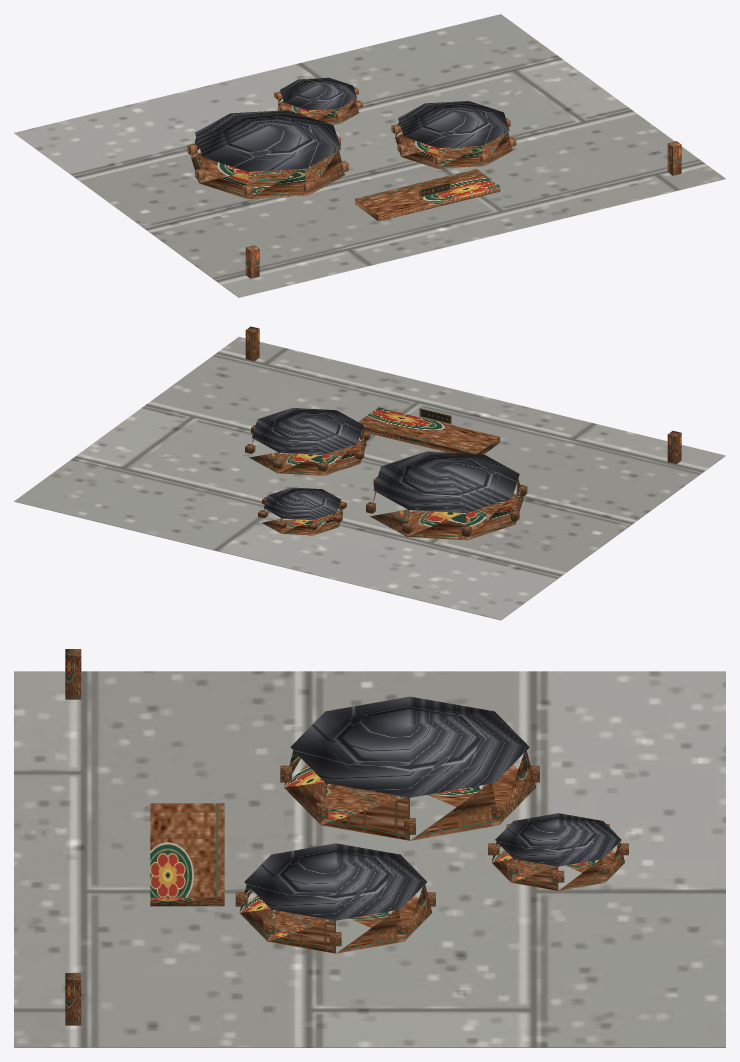
The picture shows the model from 3 angles, top to bottom: view 1: azimuth 30°, elevation 25°; view 2: azimuth 150°, elevation 25°; view 3: azimuth 270°, elevation 25°; orthographic projection. The views are drawn at different scales.
Parts seen in each view (by area): view 1: 11710_01_05546_019_01_L2__base, 11710_01_05546_019_03_L2__roof, 11710_01_05546_019_02_L2__body, 11710_01_05546_019_06_L2__green; view 2: 11710_01_05546_019_01_L2__base, 11710_01_05546_019_03_L2__roof, 11710_01_05546_019_02_L2__body, 11710_01_05546_019_06_L2__green; view 3: 11710_01_05546_019_01_L2__base, 11710_01_05546_019_03_L2__roof, 11710_01_05546_019_02_L2__body, 11710_01_05546_019_06_L2__green.
Boxes of the visible parts, left/top/right/bottom form: 11710_01_05546_019_01_L2__base: left=14, top=14, right=725, bottom=297; 11710_01_05546_019_03_L2__roof: left=195, top=77, right=509, bottom=171; 11710_01_05546_019_02_L2__body: left=187, top=87, right=516, bottom=221; 11710_01_05546_019_06_L2__green: left=245, top=141, right=681, bottom=278; 11710_01_05546_019_01_L2__base: left=14, top=337, right=725, bottom=620; 11710_01_05546_019_03_L2__roof: left=252, top=408, right=519, bottom=520; 11710_01_05546_019_02_L2__body: left=245, top=407, right=527, bottom=540; 11710_01_05546_019_06_L2__green: left=245, top=326, right=681, bottom=464; 11710_01_05546_019_01_L2__base: left=14, top=671, right=725, bottom=1047; 11710_01_05546_019_03_L2__roof: left=244, top=696, right=621, bottom=920; 11710_01_05546_019_02_L2__body: left=150, top=750, right=628, bottom=953; 11710_01_05546_019_06_L2__green: left=65, top=649, right=81, bottom=1025.
Bounding box in the file's own units: 120 × 9.9 × 96.
Materials: 4 (4 with a texture image).
